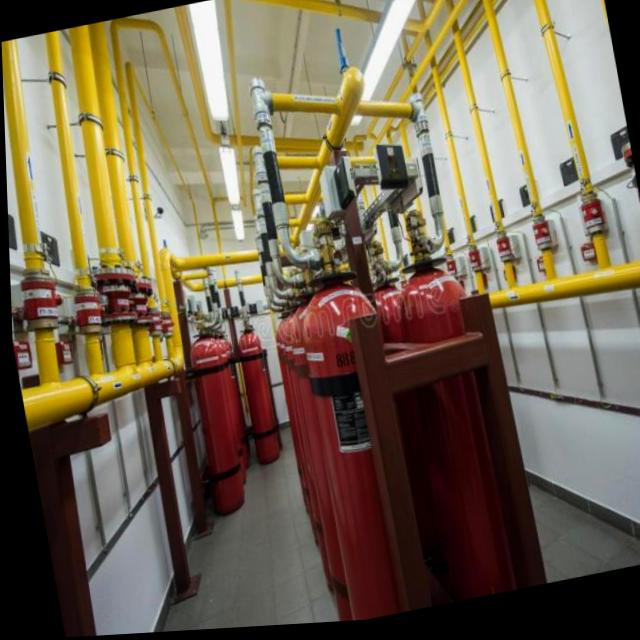FireExtinguisher: (279, 249, 431, 627), (382, 234, 533, 610), (176, 314, 251, 524), (225, 313, 285, 474)
